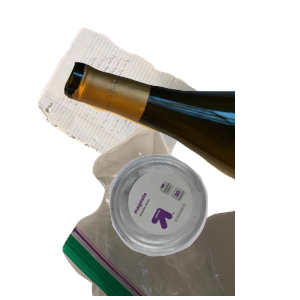glass: (60, 59, 300, 231)
paper: (35, 25, 232, 204)
plastic: (107, 152, 300, 300)
trash: (60, 120, 300, 300)
